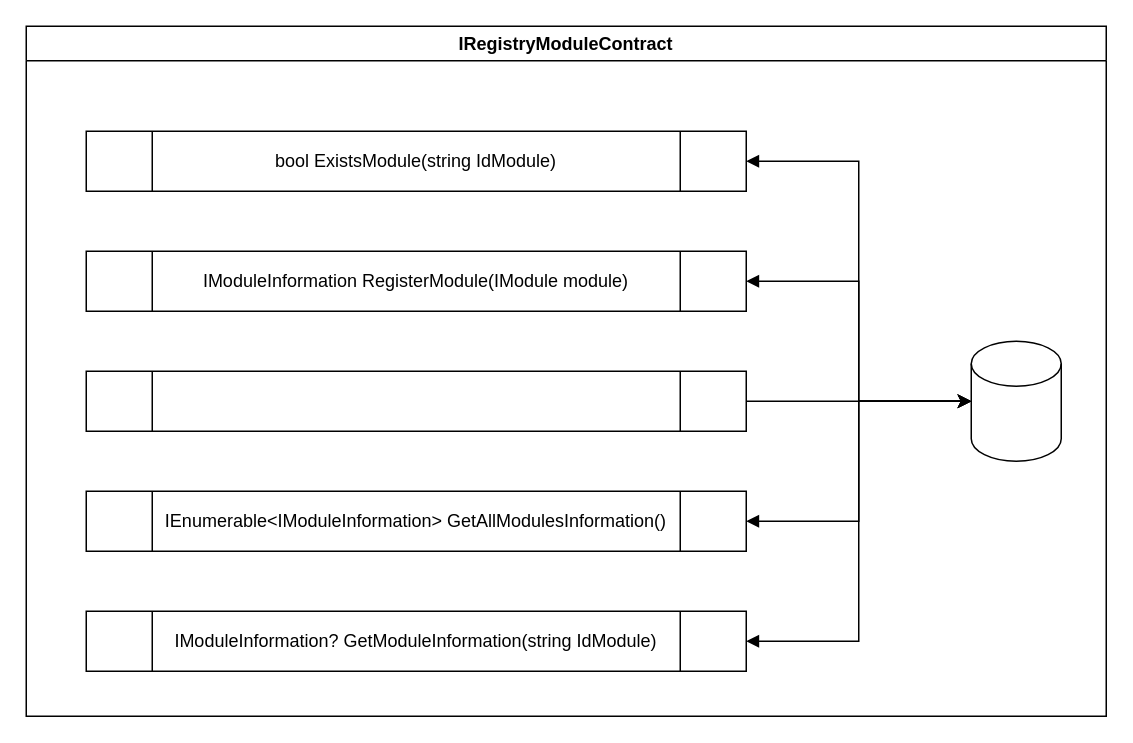
Image size: 1133x743. Some labels were removed from this diagram. Here are the shapes that lost their labels. From the top down, the centre of each, then its label:
[415,400]: void UnregisterModule(string idModule)
[1015,400]: Dictionary
